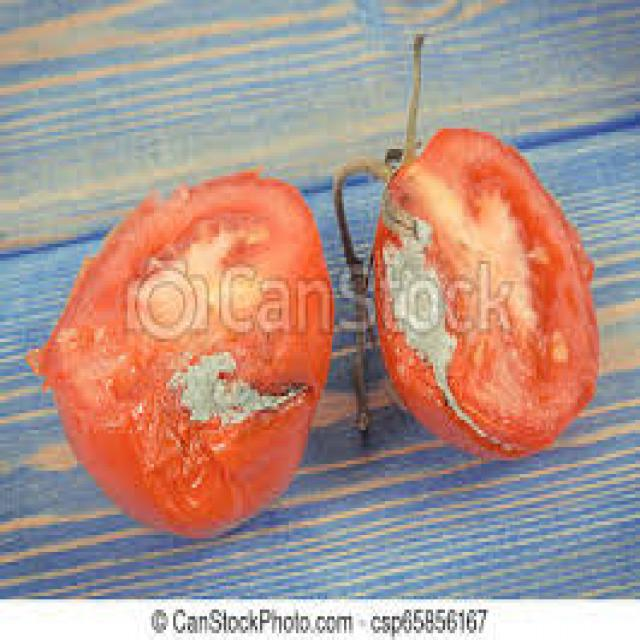organic waste: (24, 163, 330, 535), (332, 27, 597, 450)
